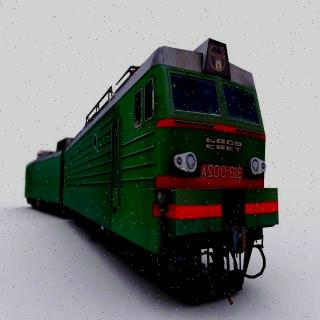poezd: (27, 40, 280, 296)
